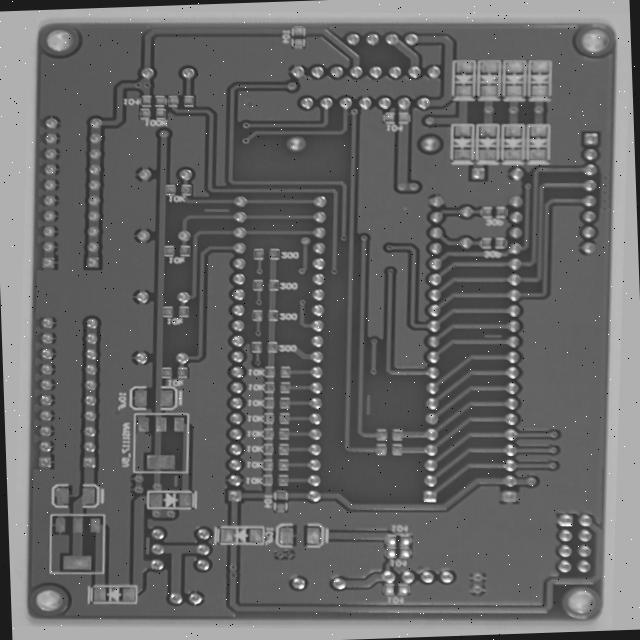spurious_copper: (183, 204, 218, 218), (368, 390, 384, 420), (143, 548, 159, 574), (492, 321, 518, 336), (166, 484, 187, 502)
